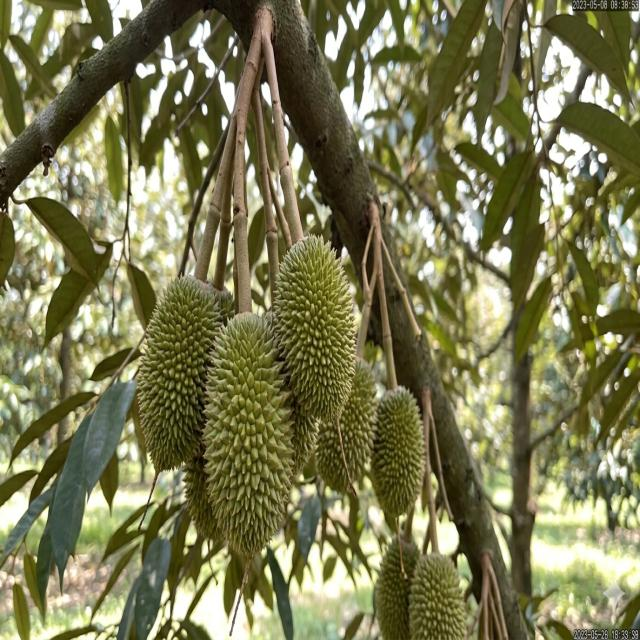immature: (198, 310, 296, 560), (136, 268, 226, 474), (270, 232, 354, 422), (319, 361, 378, 496), (371, 383, 426, 519), (213, 310, 280, 403), (407, 550, 469, 637), (375, 532, 419, 636), (215, 285, 236, 324)
